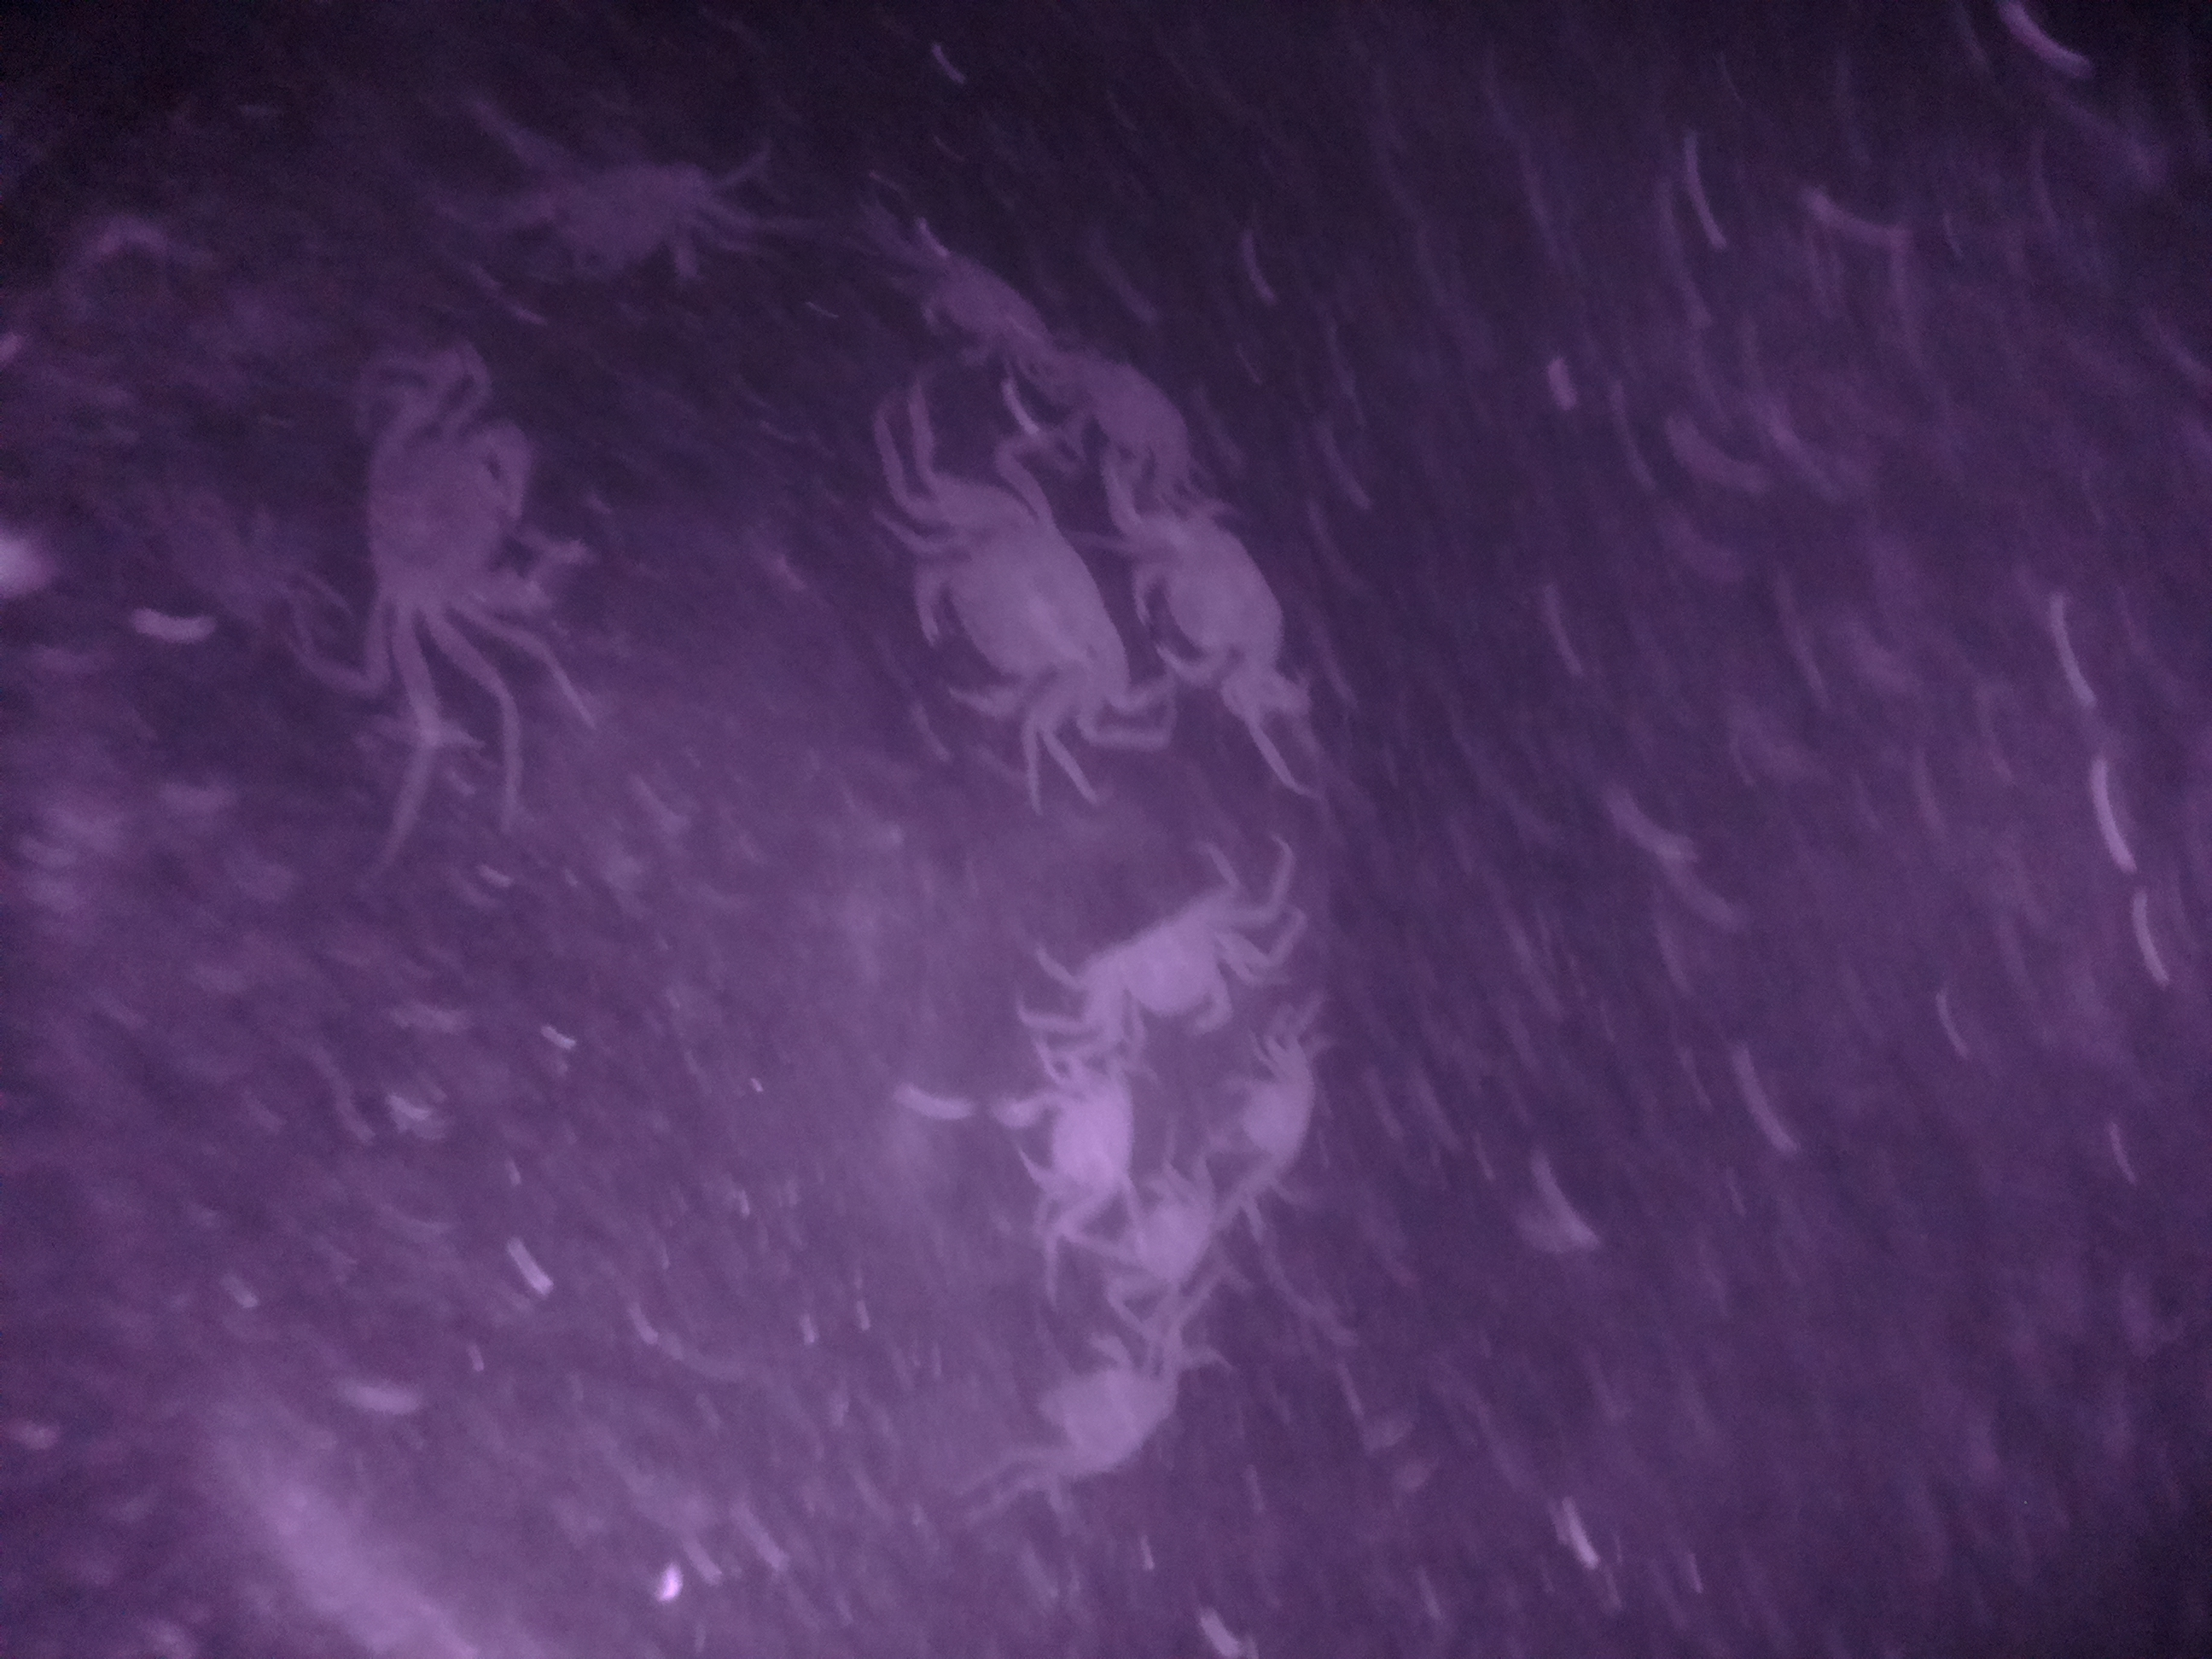Crab: (894, 477, 1129, 744), (1104, 484, 1305, 718), (1075, 871, 1268, 1061)
